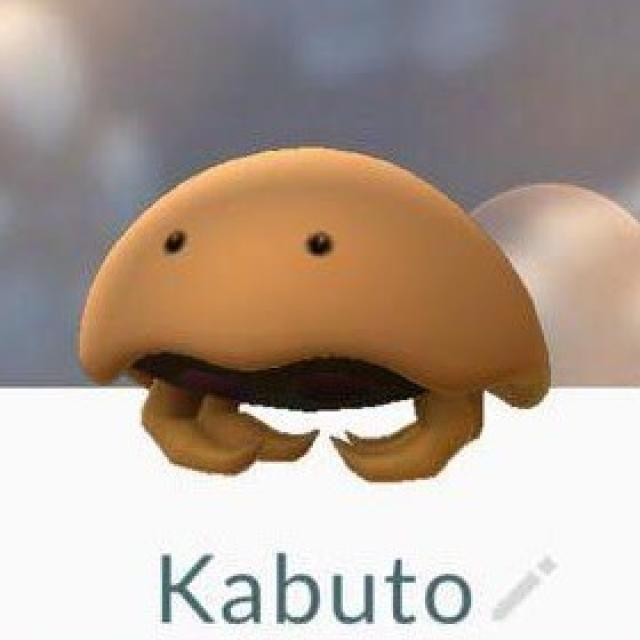Kabuto: (58, 145, 554, 473)
